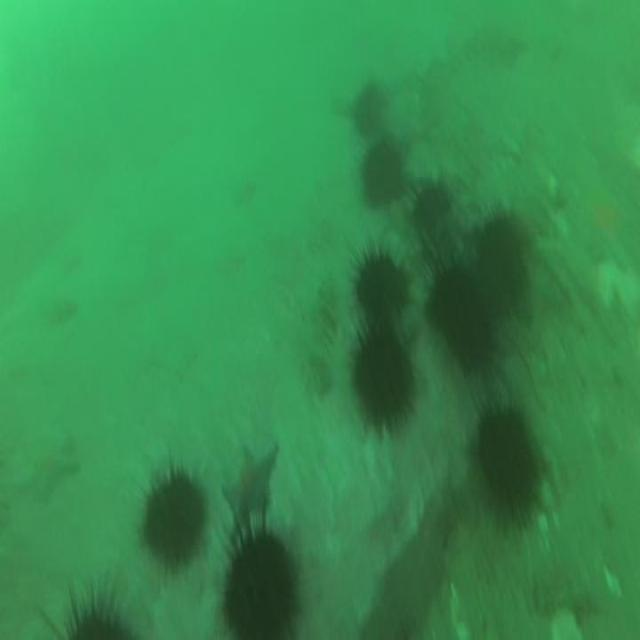echinus: (224, 536, 295, 638), (428, 267, 492, 371), (352, 321, 412, 430), (142, 468, 204, 566), (479, 409, 534, 512), (476, 208, 522, 288), (356, 251, 406, 318), (362, 142, 404, 207), (351, 80, 381, 136), (410, 184, 450, 222)
holothurian: (299, 270, 337, 389)
starfish: (219, 446, 279, 523), (21, 427, 79, 496)
